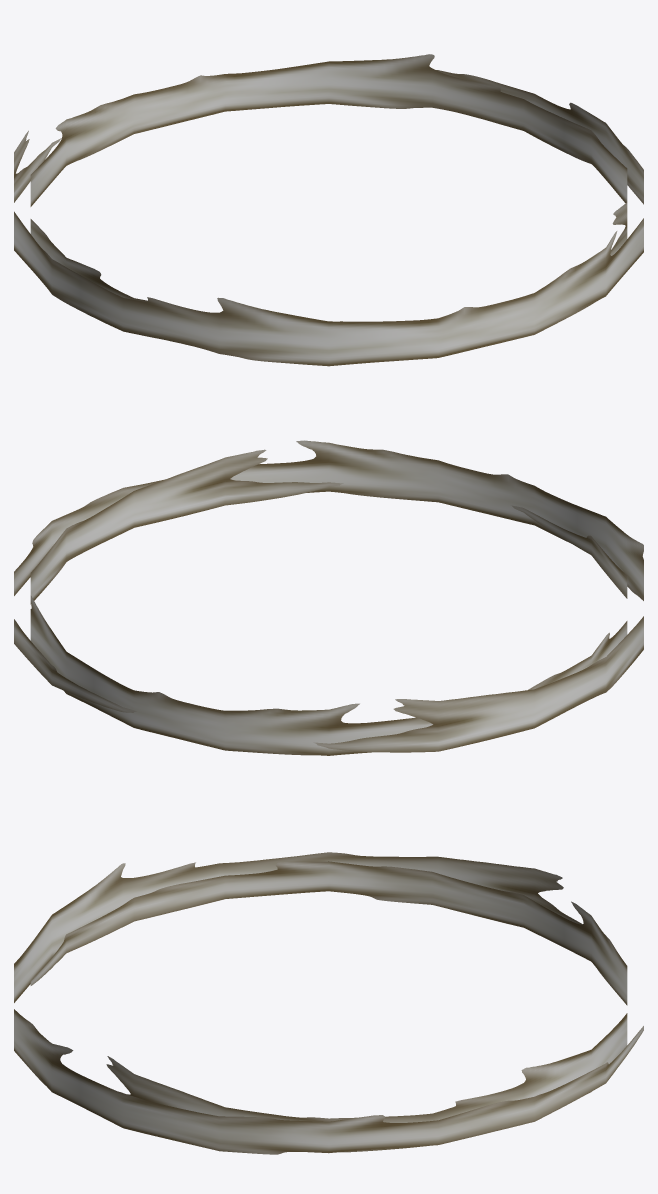
File: WarpGround.FBX
The picture shows the model from 3 angles, top to bottom: view 1: azimuth 30°, elevation 25°; view 2: azimuth 150°, elevation 25°; view 3: azimuth 270°, elevation 25°; orthographic projection.
Parts seen in each view (by area): view 1: Warp01, Warp02; view 2: Warp01, Warp02; view 3: Warp01, Warp02.
Part boxes in pixels (left/top/right/bottom): Warp01: left=14, top=70, right=643, bottom=366; Warp02: left=30, top=54, right=627, bottom=301; Warp01: left=14, top=440, right=643, bottom=752; Warp02: left=30, top=449, right=627, bottom=755; Warp01: left=14, top=852, right=643, bottom=1154; Warp02: left=30, top=861, right=627, bottom=1152.
Size of the model in its own units: 44.55 by 7.63 by 43.87.
